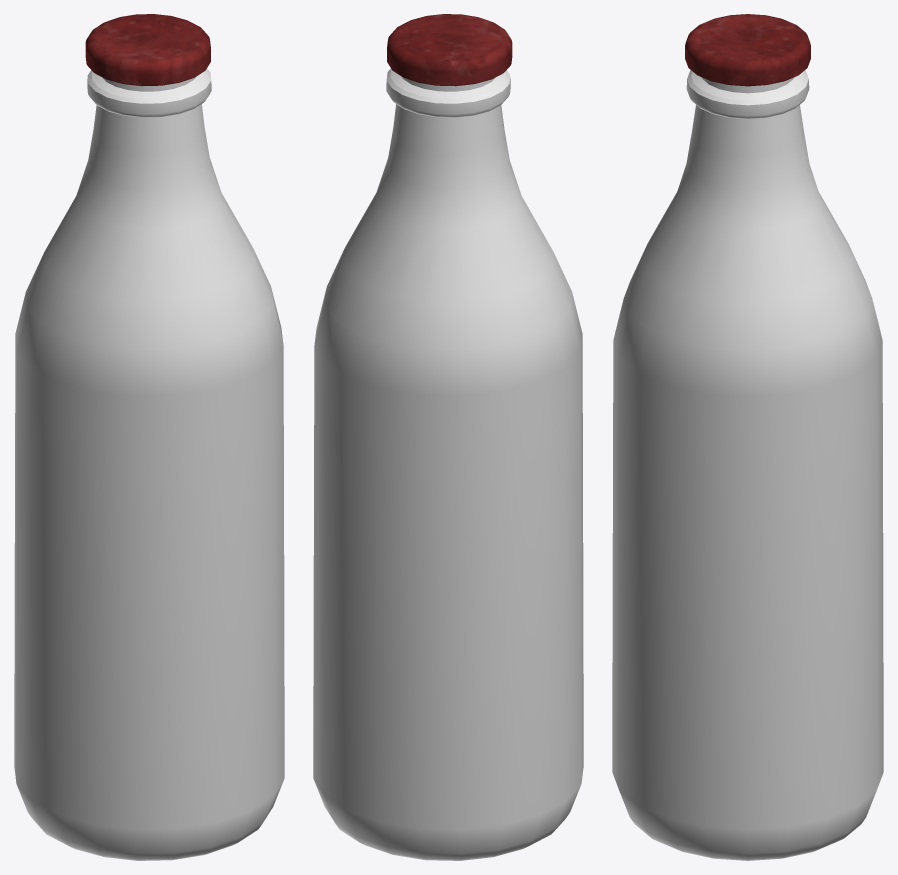
File: Garrafa de Leite.fbx
3 views of the same model, side by side, from view 1: azimuth 30°, elevation 25°; view 2: azimuth 150°, elevation 25°; view 3: azimuth 270°, elevation 25° (orthographic).
Visible parts, largest first — view 1: Garrafa, Tampa; view 2: Garrafa, Tampa; view 3: Garrafa, Tampa.
Part boxes in pixels (<box>): Garrafa: <box>14,68,284,860</box>; Tampa: <box>85,14,210,86</box>; Garrafa: <box>313,68,583,860</box>; Tampa: <box>387,14,512,86</box>; Garrafa: <box>612,70,883,860</box>; Tampa: <box>685,14,810,86</box>.
Bounding box in the file's own units: 13.77 × 43.53 × 13.77.
Materials: 3 (2 with a texture image).
